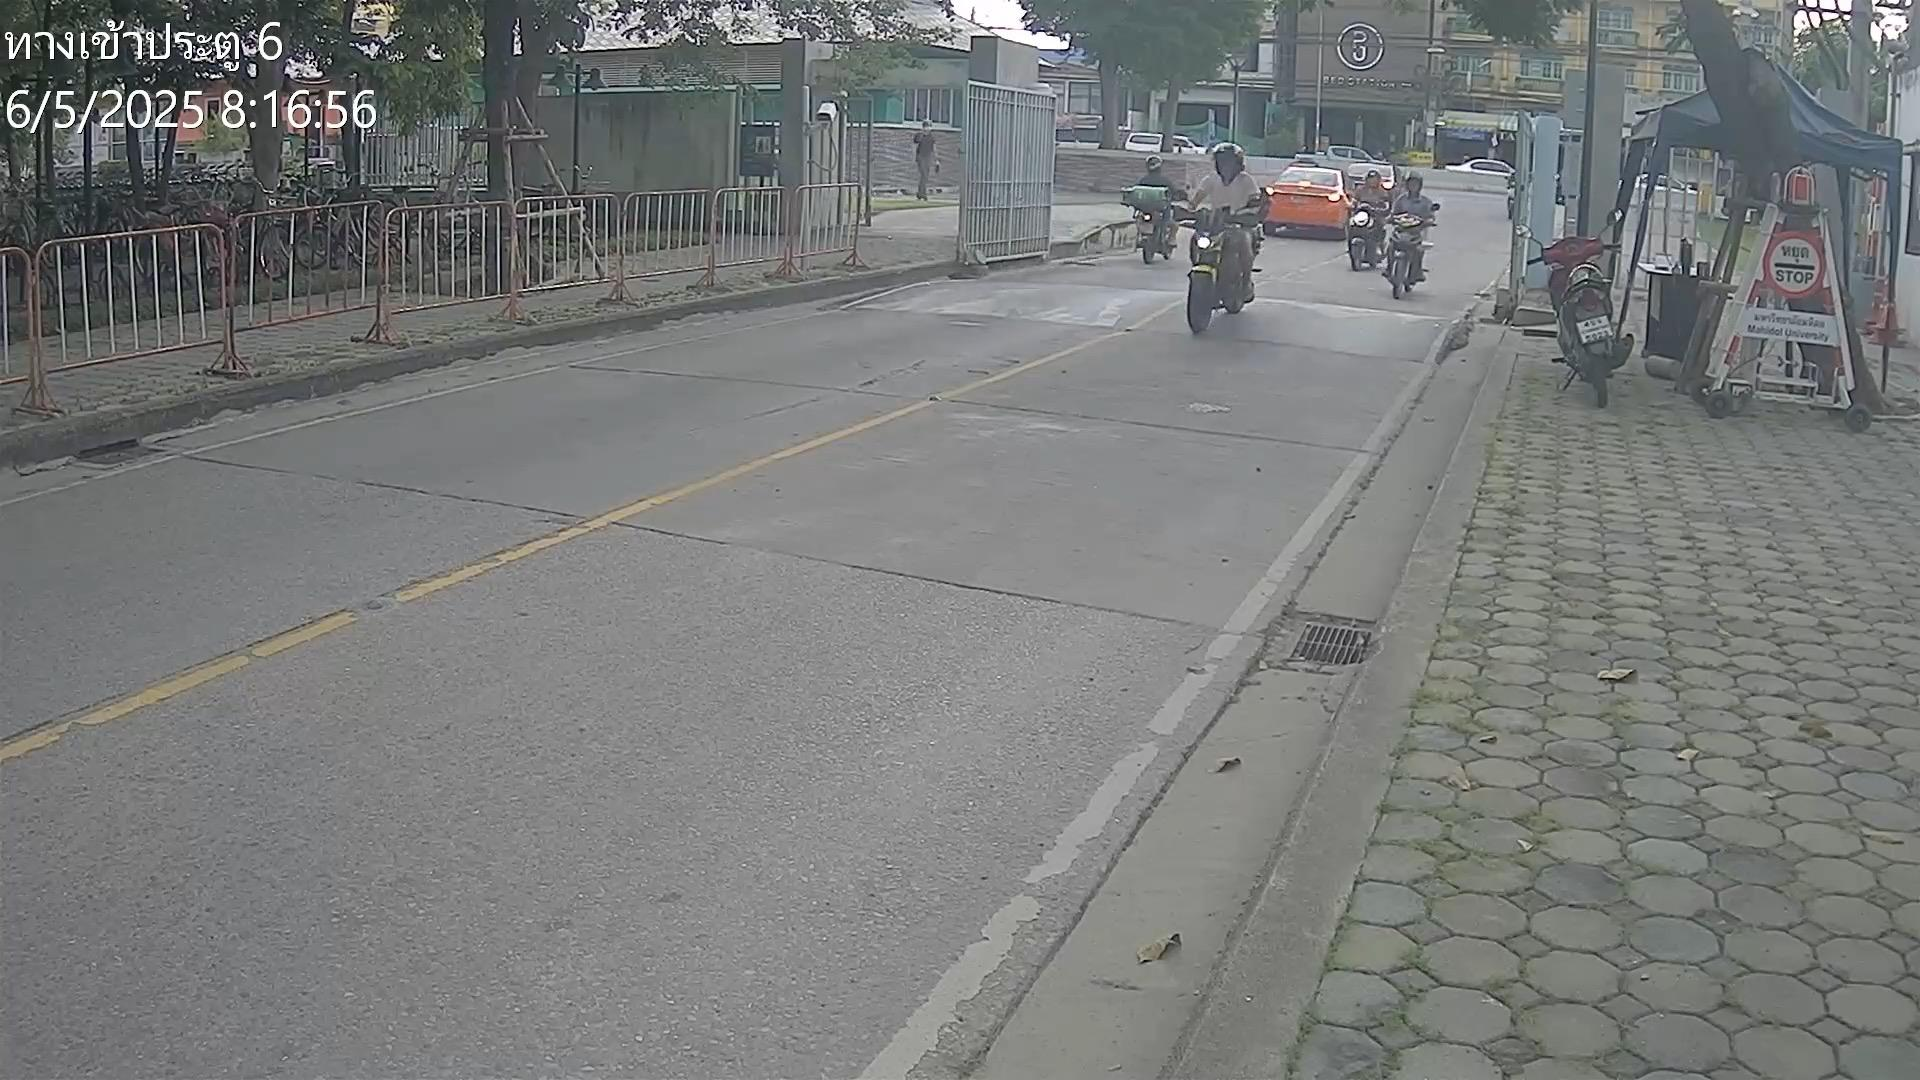With-Helmet: (1212, 141, 1245, 173), (1400, 167, 1425, 196), (1143, 153, 1163, 175), (1364, 167, 1381, 187)
